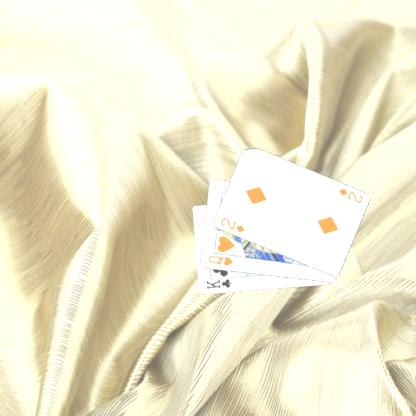2D: (218, 215, 245, 234), (336, 186, 364, 204)
KC: (204, 274, 234, 290)
QH: (206, 253, 234, 267)
